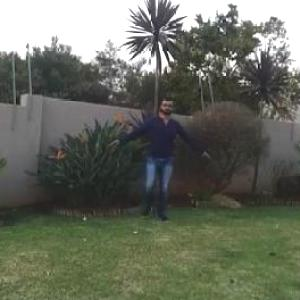land: (82, 74, 217, 240)
